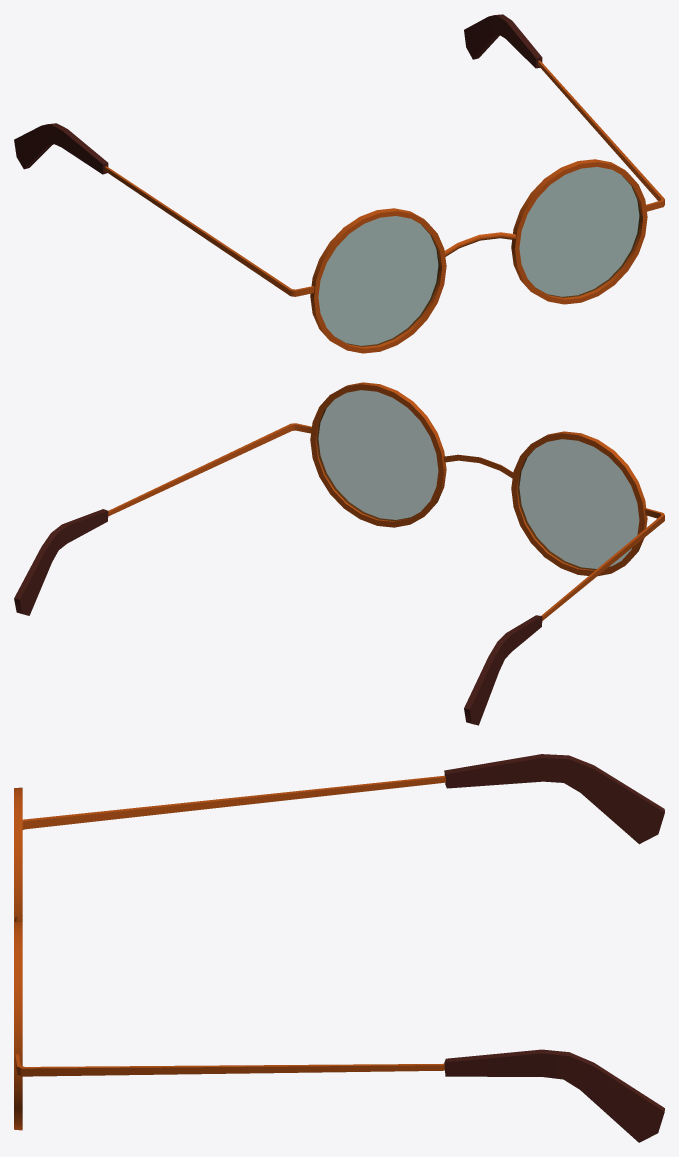
Rendered from VintageRoundSunglasses.fbx.
3 views of the same model, one above another, from view 1: azimuth 30°, elevation 25°; view 2: azimuth 150°, elevation 25°; view 3: azimuth 270°, elevation 25° (orthographic). The views are drawn at different scales.
Visible parts, largest first — view 1: VintageRoundSunglasses; view 2: VintageRoundSunglasses; view 3: VintageRoundSunglasses.
Part boxes in pixels (<box>): VintageRoundSunglasses: <box>14,14,664,353</box>; VintageRoundSunglasses: <box>14,382,664,725</box>; VintageRoundSunglasses: <box>14,754,664,1142</box>.
Size of the model in its own units: 71.6 by 20.99 by 65.01.
